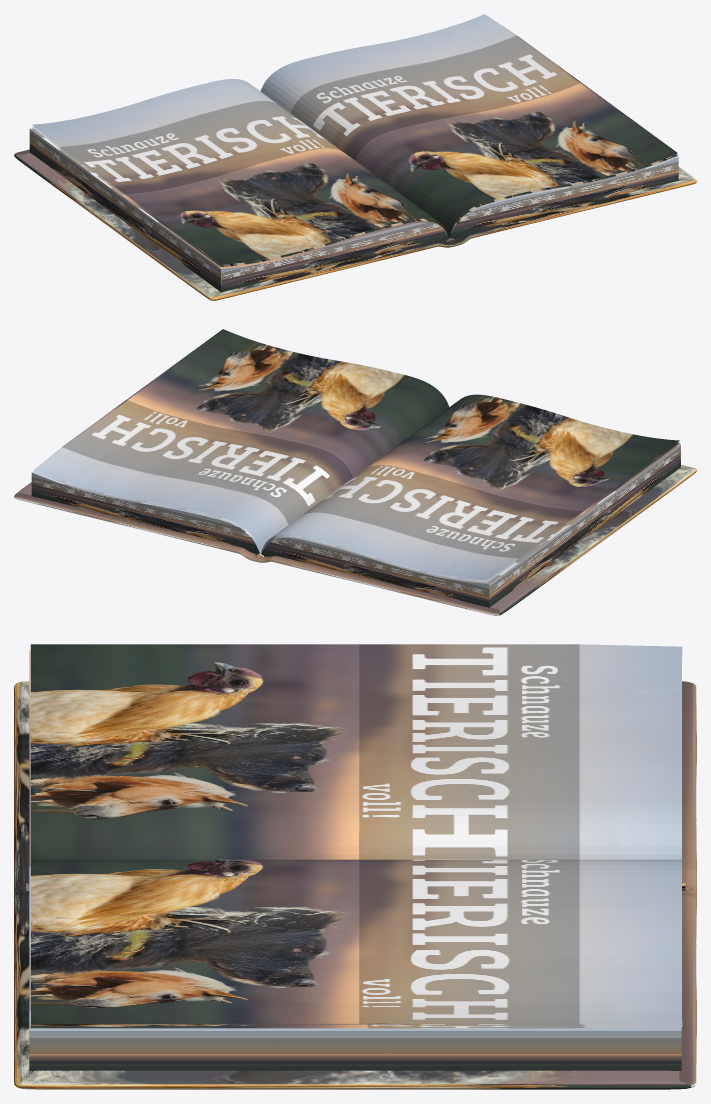
Rendered from buch.glb.
3 renders of one model, top to bottom at view 1: azimuth 30°, elevation 25°; view 2: azimuth 150°, elevation 25°; view 3: azimuth 270°, elevation 25°, orthographic. The views are drawn at different scales.
Visible parts, largest first — view 1: Book OBJ; view 2: Book OBJ; view 3: Book OBJ.
Part boxes in pixels (<box>): Book OBJ: <box>14,14,696,300</box>; Book OBJ: <box>14,329,696,615</box>; Book OBJ: <box>14,644,696,1089</box>.
Size of the model in its own units: 101 by 7.59 by 71.91.
Materials: 2 (1 with a texture image).
